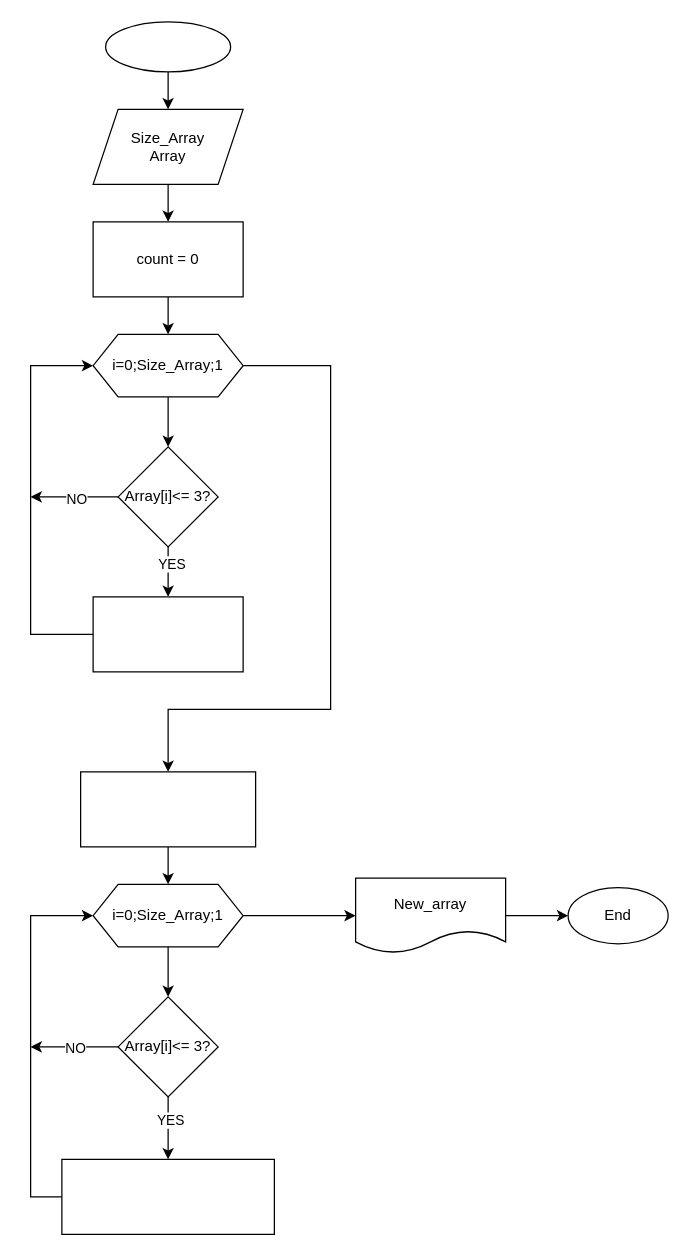
The diagram is 690 pixels wide and 1256 high, and some of its shapes have lost their labels. Here are the shapes that lost their labels. From the top down, the centre of each, then its label:
(x=167, y=46): Begin
(x=167, y=634): count=count+1
(x=167, y=809): New_size_array=count New_array index=0
(x=167, y=1196): New_array[index] = Array[i] index=index+1
